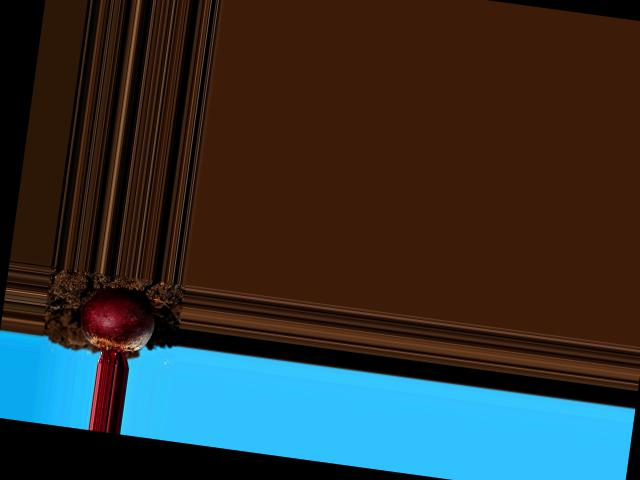beet: (74, 283, 159, 370)
